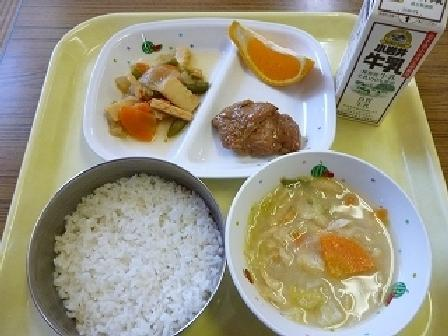Citrus: (224, 12, 313, 89)
Meat: (213, 88, 299, 174)
Milk: (327, 2, 447, 114)
Rice: (28, 154, 212, 327)
Soups: (232, 160, 426, 334)
vegetable based cooked food: (108, 42, 205, 141)
